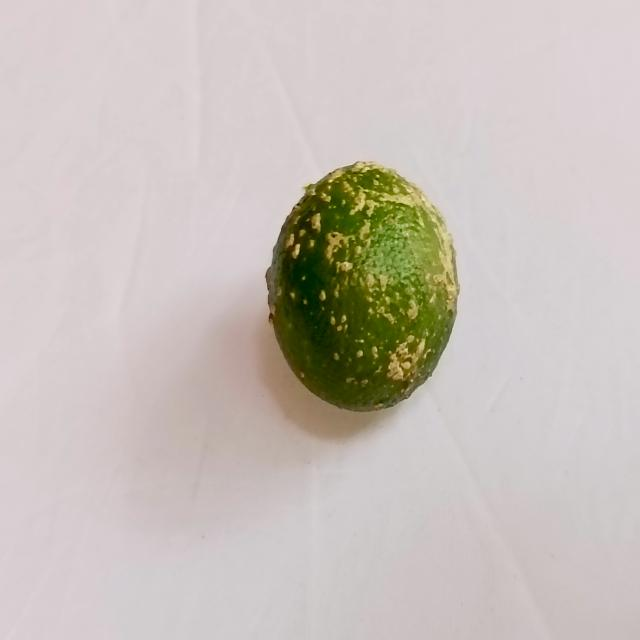scab: (268, 160, 460, 392)
